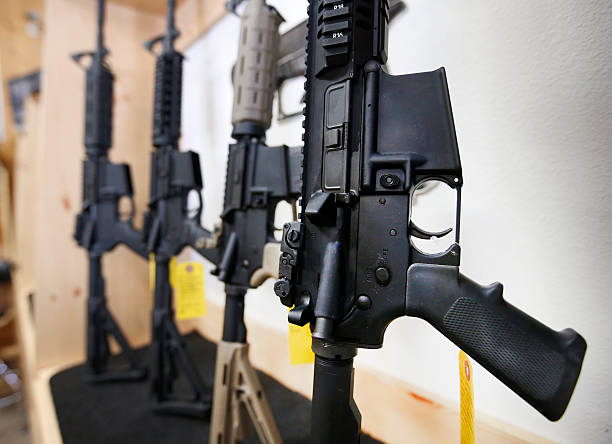rifle: (282, 1, 597, 441), (205, 4, 296, 438), (141, 1, 217, 420), (66, 1, 148, 388)
